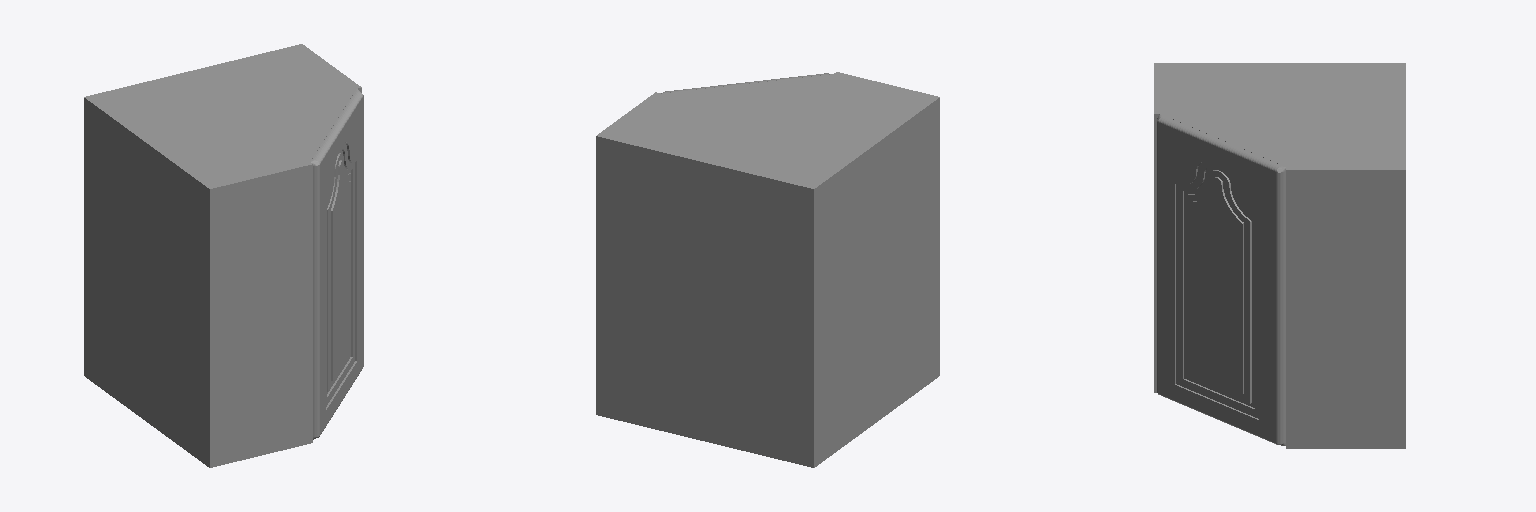
Rendered from corner-wall-unit-590.obj.
The picture shows the model from 3 angles: view 1: azimuth 30°, elevation 25°; view 2: azimuth 150°, elevation 25°; view 3: azimuth 270°, elevation 25°; orthographic projection.
Parts seen in each view (by area): view 1: Cube_Cube.002, Cube.002_Cube.004, Cube.003_Cube.008; view 2: Cube_Cube.002, Cube.001_Cube.003, Cube.002_Cube.004; view 3: Cube.003_Cube.008, Cube.001_Cube.003, Cube_Cube.002, Cube.002_Cube.004.
Boxes of the visible parts, box(x1,y1,x2,y2) form: Cube_Cube.002: box(84, 45, 355, 465); Cube.002_Cube.004: box(207, 162, 312, 467); Cube.003_Cube.008: box(311, 89, 363, 439); Cube_Cube.002: box(601, 74, 936, 467); Cube.001_Cube.003: box(596, 92, 660, 415); Cube.002_Cube.004: box(834, 72, 939, 377); Cube.003_Cube.008: box(1157, 114, 1285, 445); Cube.001_Cube.003: box(1286, 167, 1405, 448); Cube_Cube.002: box(1160, 63, 1405, 166); Cube.002_Cube.004: box(1154, 63, 1159, 392).
Bounding box in the file's own units: 118 × 144 × 118.